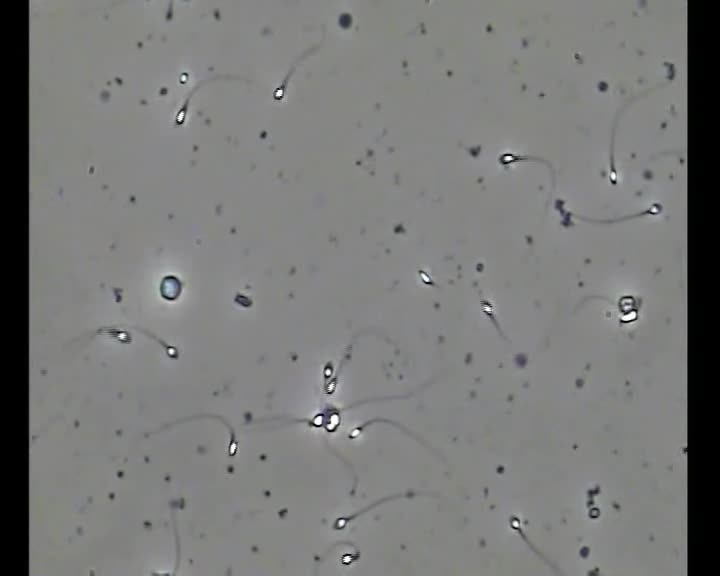spermhead: (617, 295, 640, 325), (160, 274, 182, 301), (324, 407, 340, 432), (233, 292, 253, 308), (416, 268, 433, 285), (498, 152, 519, 165), (337, 11, 352, 29), (308, 412, 324, 427), (560, 210, 574, 227), (175, 105, 186, 126), (347, 425, 363, 439), (509, 515, 523, 531), (273, 83, 286, 100), (341, 552, 358, 565), (481, 299, 494, 316), (164, 0, 174, 22), (325, 376, 337, 394), (467, 144, 482, 158), (227, 436, 237, 456), (333, 516, 348, 529), (553, 198, 566, 213), (647, 203, 663, 215), (323, 362, 334, 379), (165, 344, 178, 358), (114, 330, 129, 342), (608, 168, 618, 184), (587, 484, 599, 497), (178, 71, 189, 85), (588, 506, 599, 519), (95, 325, 109, 335), (151, 569, 174, 575), (404, 488, 416, 499), (588, 567, 598, 575), (424, 0, 431, 6)
